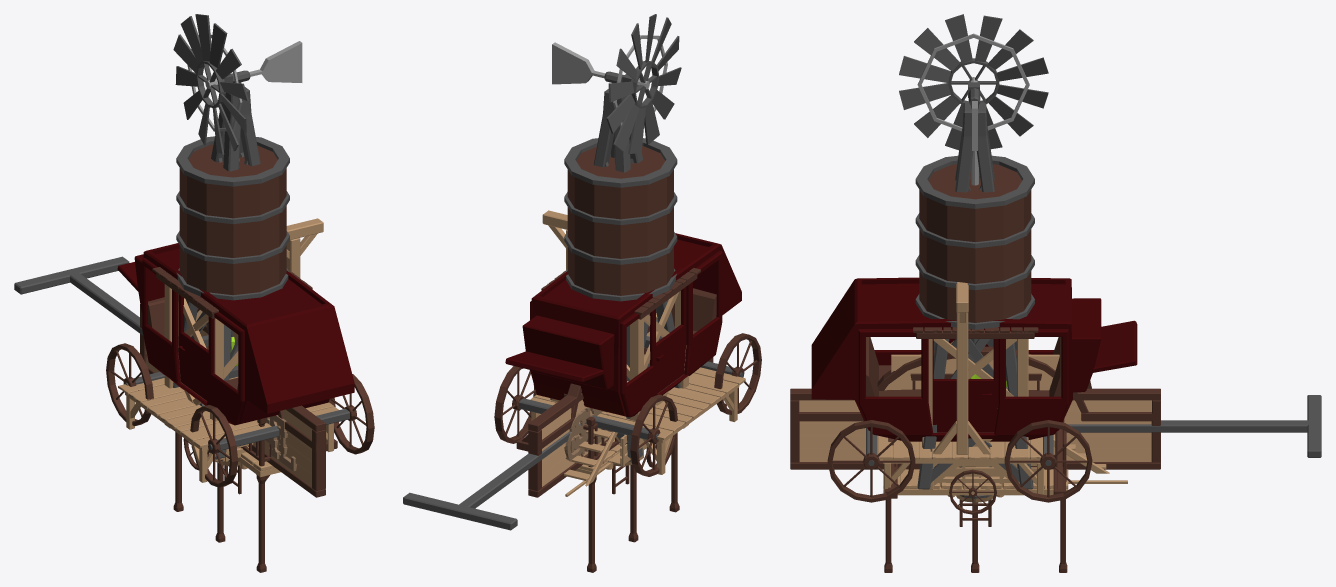
The model's file is wild-west.glb.
3 views of the same model, side by side, from view 1: azimuth 30°, elevation 25°; view 2: azimuth 150°, elevation 25°; view 3: azimuth 270°, elevation 25° (orthographic). The views are drawn at different scales.
Parts seen in each view (by area): view 1: Stagecoach, Water_Tank, Windmill002, Gallows, Balcony_with_Railing_A, General_Sign_B, Saloon_Sign_A; view 2: Stagecoach, Water_Tank, Windmill002, Gallows, Saloon_Sign_A, Balcony_with_Railing_A, General_Sign_B, Cart_A; view 3: Stagecoach, Water_Tank, Windmill002, General_Sign_B, Saloon_Sign_A, Gallows, Balcony_with_Railing_A, Cart_A, Window_A.
Part boxes in pixels (x1,y1,x2,y2): Stagecoach: (14,243,374,487); Water_Tank: (152,136,312,461); Windmill002: (173,14,302,459); Gallows: (118,218,338,482); Balcony_with_Railing_A: (173,418,280,572); General_Sign_B: (140,308,337,496); Saloon_Sign_A: (140,304,325,497); Stagecoach: (403,233,761,530); Water_Tank: (541,138,700,460); Windmill002: (550,14,681,457); Gallows: (530,210,745,486); Saloon_Sign_A: (516,347,713,497); Balcony_with_Railing_A: (575,414,679,572); General_Sign_B: (517,311,712,496); Cart_A: (565,434,656,496); Stagecoach: (811,277,1321,502); Water_Tank: (913,155,1038,489); Windmill002: (899,14,1048,489); General_Sign_B: (798,346,1152,494); Saloon_Sign_A: (790,388,1160,498); Gallows: (877,282,1109,494); Balcony_with_Railing_A: (883,430,1068,572); Cart_A: (933,463,1127,514); Window_A: (891,354,1059,454).
Size of the model in its own units: 3.49 by 10.84 by 9.46.
